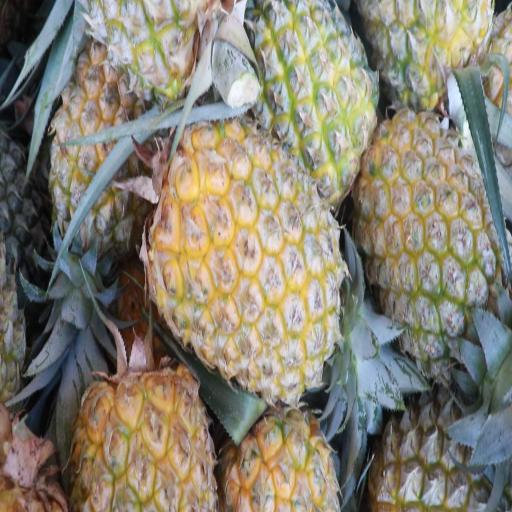------------------------------: (50, 57, 144, 246)
Pineapple - v8 v1: (157, 128, 339, 384), (366, 116, 503, 342), (259, 0, 374, 188)
